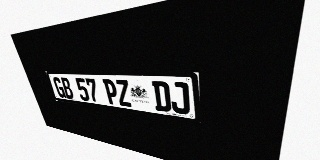5: (75, 78, 90, 101)
7: (84, 78, 100, 103)
B: (60, 77, 75, 99)
D: (152, 81, 172, 112)
G: (52, 77, 66, 98)
J: (169, 82, 190, 115)
P: (102, 79, 119, 105)
Z: (114, 79, 132, 107)
